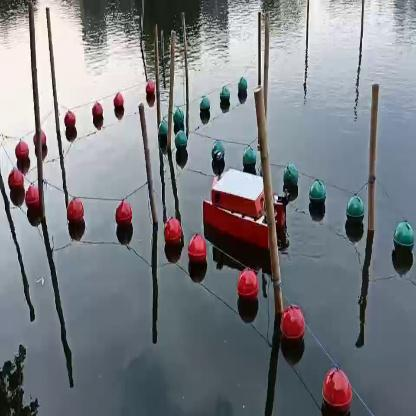green_buoy: (390, 217, 414, 265), (344, 194, 364, 234), (309, 181, 326, 218), (210, 140, 226, 169), (284, 162, 298, 193), (173, 107, 191, 128), (242, 145, 257, 169), (174, 130, 187, 156), (159, 118, 172, 144), (219, 89, 232, 112), (200, 98, 212, 122), (238, 76, 247, 98)
red_buoy: (318, 363, 356, 415), (280, 306, 306, 350), (238, 265, 258, 304), (188, 234, 206, 272), (112, 202, 134, 231), (165, 218, 180, 254), (67, 200, 84, 227), (14, 140, 31, 166), (26, 183, 38, 217), (8, 166, 22, 194), (63, 112, 78, 136), (91, 103, 103, 127), (145, 78, 156, 102), (113, 93, 124, 116)
